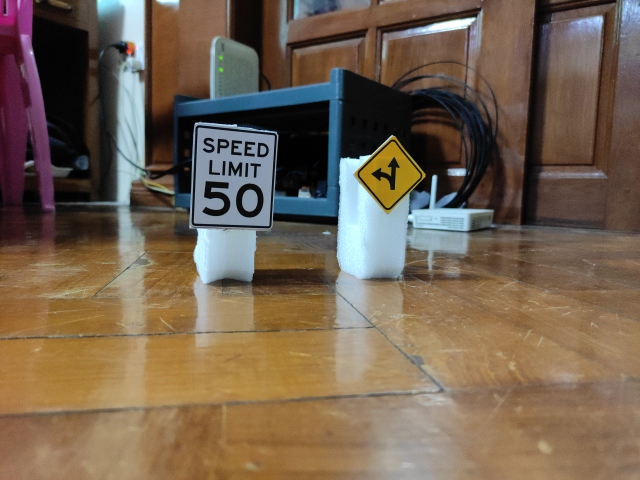Speed Limit 50: (190, 124, 280, 230)
Straight Or Left Sign: (354, 137, 425, 212)
